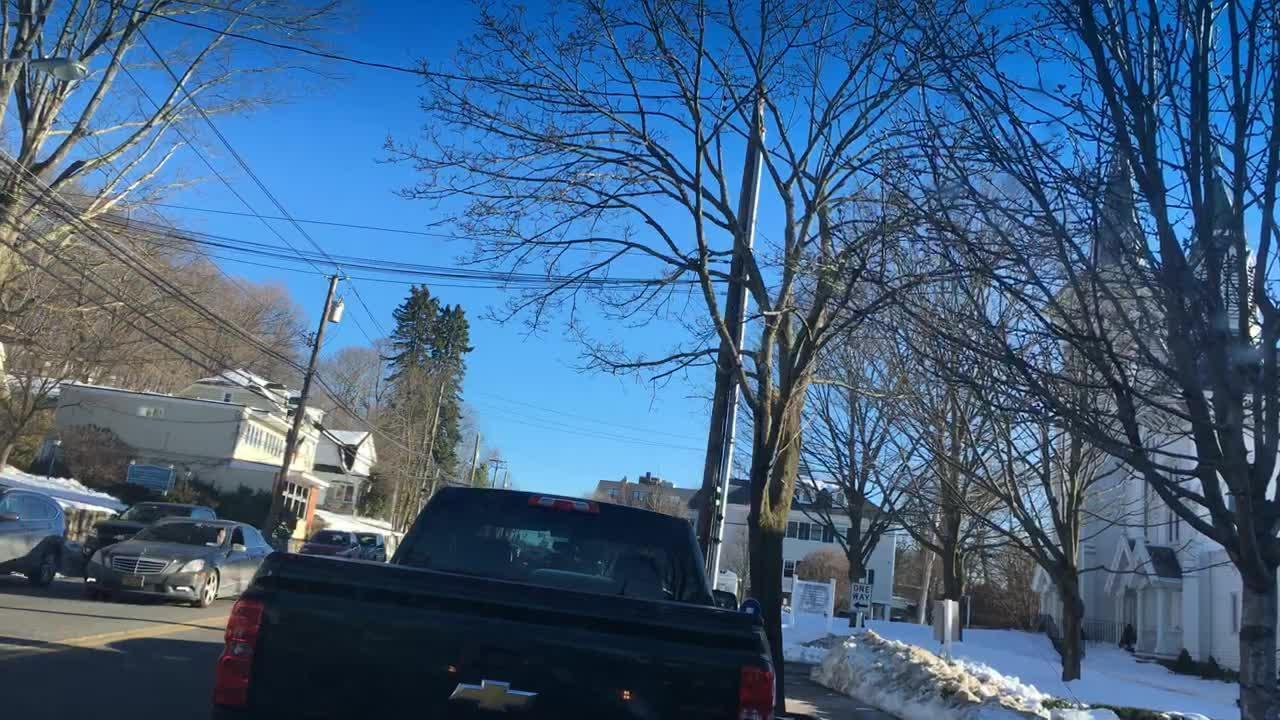chevrolet: (439, 670, 542, 720)
